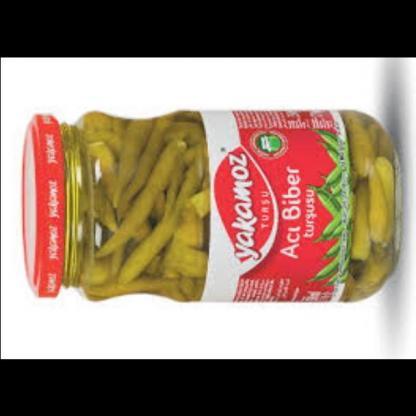hot pepper: (49, 118, 211, 301), (328, 123, 400, 292)
